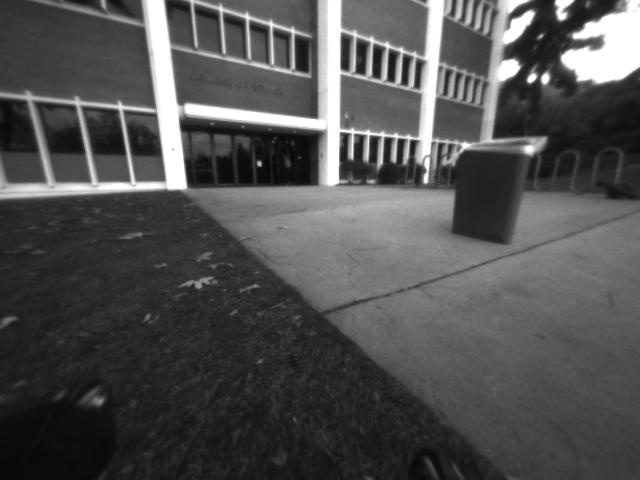trashcan: (443, 133, 546, 252)
